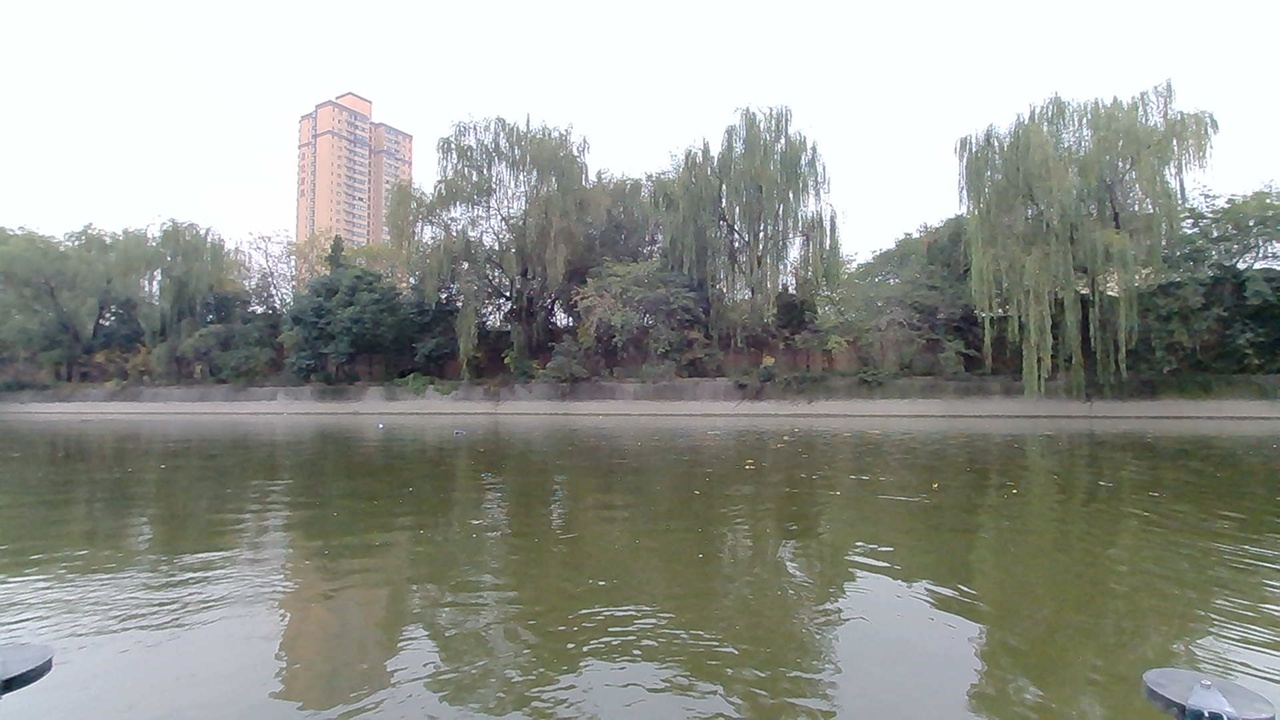bottle: (448, 424, 480, 442)
